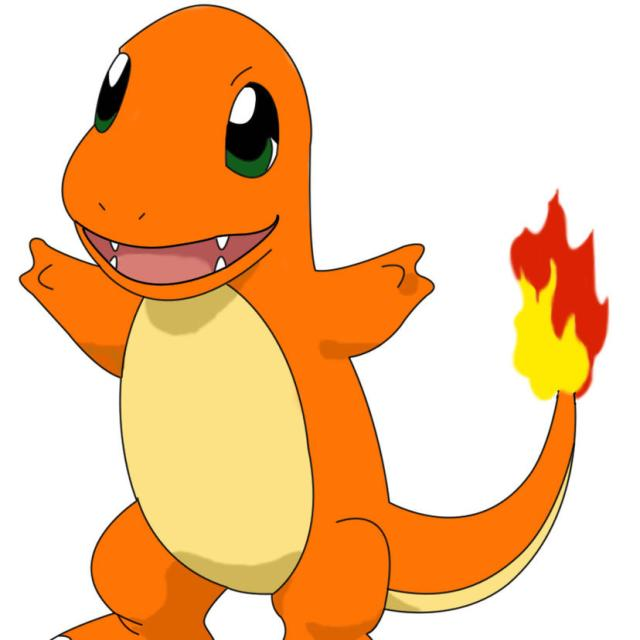Charmander: (66, 5, 389, 634)
